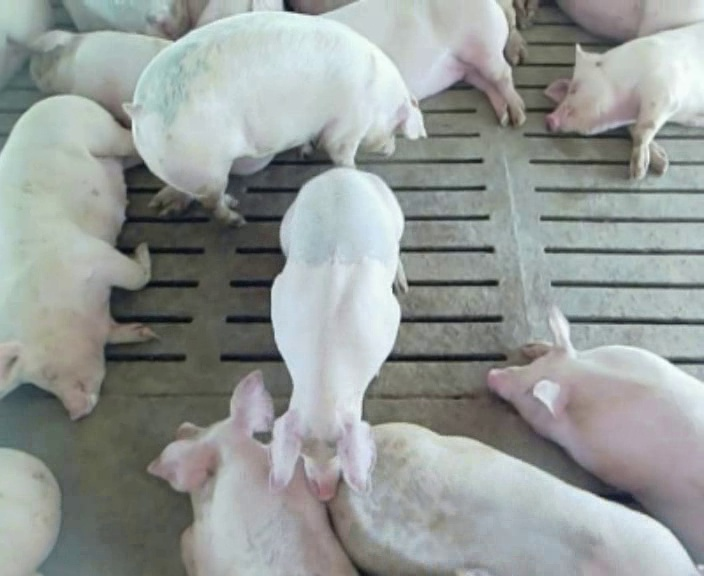pig: (128, 12, 424, 225), (488, 306, 703, 563), (329, 424, 695, 573), (0, 95, 154, 418), (271, 167, 408, 500), (148, 371, 356, 573), (545, 22, 703, 177), (558, 1, 703, 40), (64, 1, 193, 39)
